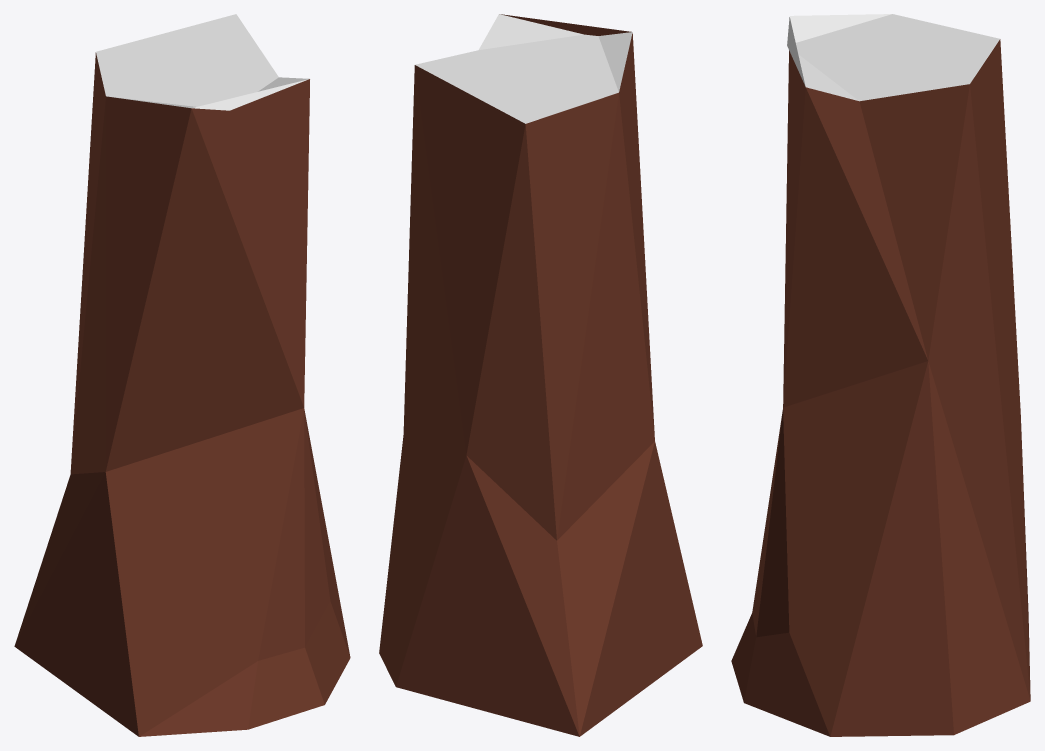
File: pine_trunk_type_7_extra_LOD1.fbx
3 views of the same model, side by side, from view 1: azimuth 30°, elevation 25°; view 2: azimuth 150°, elevation 25°; view 3: azimuth 270°, elevation 25° (orthographic). The views are drawn at different scales.
Parts seen in each view (by area): view 1: pt_type_7.001; view 2: pt_type_7.001; view 3: pt_type_7.001.
Part boxes in pixels (<box>): pt_type_7.001: <box>14,14,350,736</box>; pt_type_7.001: <box>379,14,702,736</box>; pt_type_7.001: <box>731,14,1030,736</box>.
Bounding box in the file's own units: 174 × 419 × 180.
